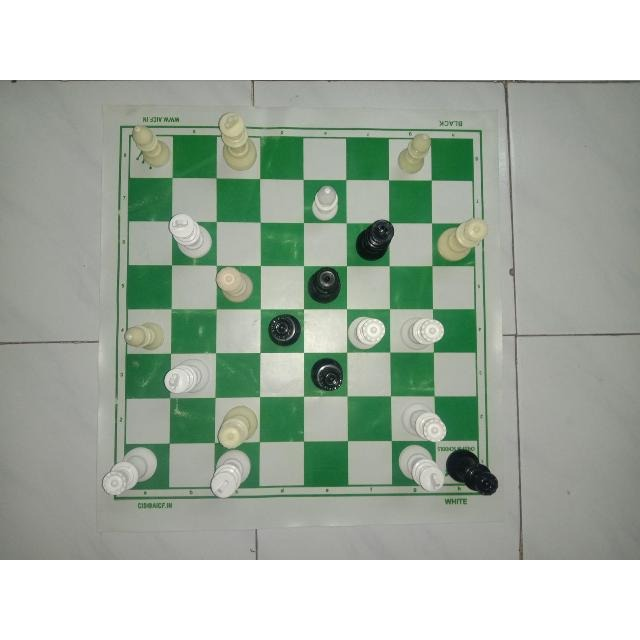black-king: (352, 216, 396, 264)
black-queen: (446, 444, 502, 494), (305, 265, 343, 307), (310, 351, 347, 391), (265, 312, 303, 348)
white-bishop: (129, 121, 171, 168), (394, 131, 432, 176), (122, 318, 170, 353), (306, 183, 342, 223)
white-king: (216, 109, 260, 174), (165, 211, 215, 259), (397, 443, 445, 493), (209, 449, 253, 499), (159, 356, 215, 395)
white-queen: (100, 446, 160, 500), (436, 217, 489, 265), (216, 400, 264, 448), (398, 398, 448, 441), (393, 314, 448, 352), (214, 262, 254, 307), (344, 315, 387, 351)
